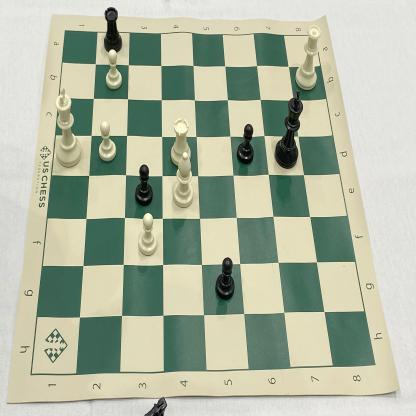black-king: (271, 87, 306, 173)
black-pawn: (234, 119, 258, 168), (132, 160, 156, 208), (215, 253, 237, 303)
black-rook: (100, 2, 124, 56)
white-bishop: (171, 150, 197, 212)
white-king: (51, 83, 86, 172)
white-pawn: (134, 210, 160, 258), (102, 44, 127, 92), (95, 116, 118, 166)
white-queen: (290, 22, 324, 94)
white-rook: (166, 113, 196, 171)
